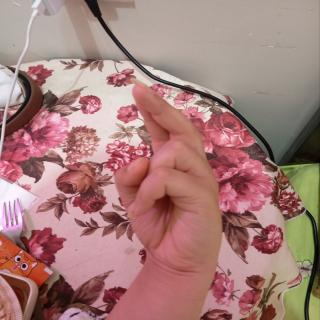ZAY: (97, 72, 231, 280)
